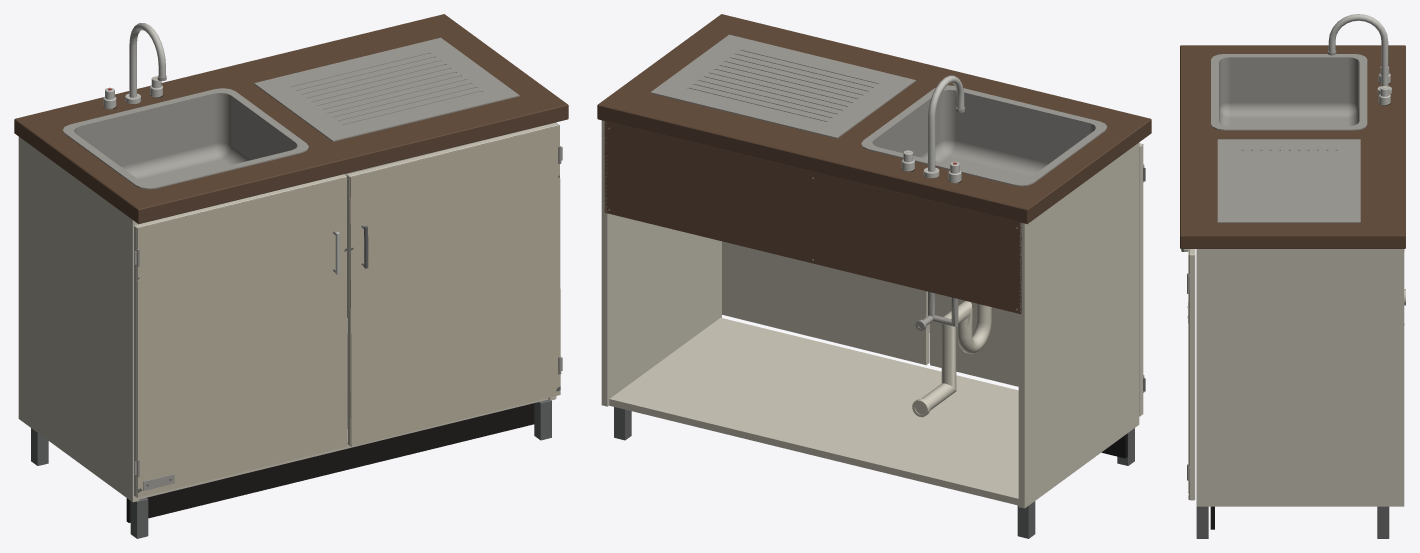
Rendered from kitchen-sink-unit-0a7297685bad.glb.
3 views of the same model, side by side, from view 1: azimuth 30°, elevation 25°; view 2: azimuth 150°, elevation 25°; view 3: azimuth 270°, elevation 25° (orthographic). The views are drawn at different scales.
Parts seen in each view (by area): view 1: paint-rescued-cream, enamel, wood-coffee, brushed, enamel-black, metal, chrome; view 2: enamel, wood, wood-coffee, brushed, chrome, metal; view 3: enamel, brushed, wood-coffee, chrome, metal.
Boxes of the visible parts, x1,y1,x2,y2 form: paint-rescued-cream: (137,125,560,497); enamel: (18,77,559,502); wood-coffee: (14,14,568,224); brushed: (62,37,562,490); enamel-black: (126,403,534,522); metal: (31,125,560,538); chrome: (103,23,339,274); enamel: (601,120,1143,508); wood: (604,121,1021,314); wood-coffee: (597,14,1151,224); brushed: (608,34,1145,392); chrome: (901,75,964,182); metal: (614,144,1143,538); enamel: (1189,86,1405,506); brushed: (1183,50,1404,480); wood-coffee: (1180,45,1405,248); chrome: (1328,14,1391,105); metal: (1181,249,1389,538).
Bounding box in the file's own units: 1.2 × 1.13 × 0.6.
